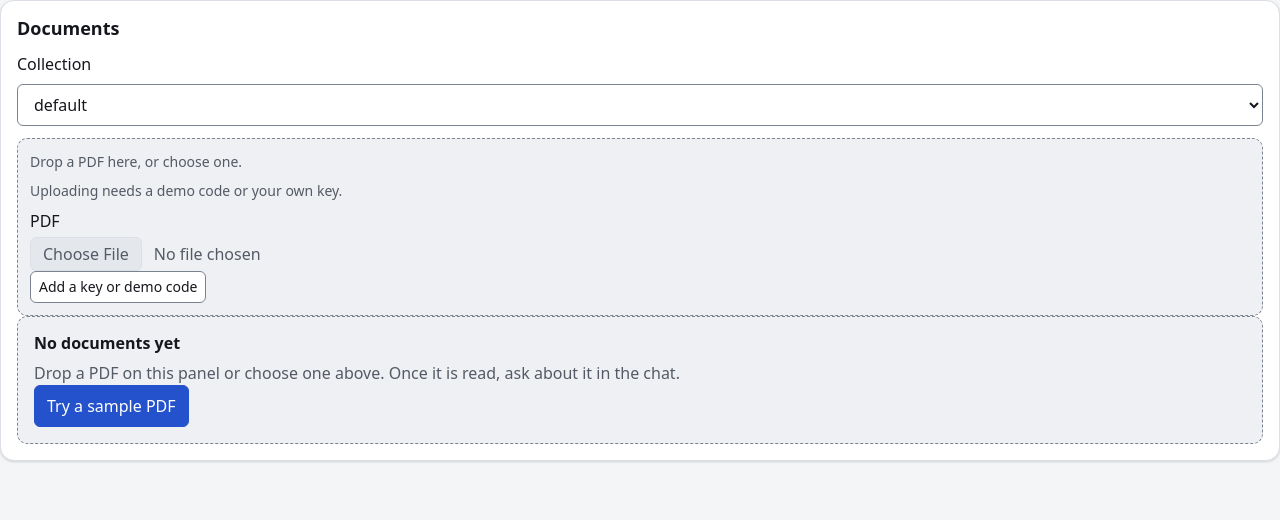
DocumentsPanel in a public demo › the sample button opens the panel instead of uploading without a code or key
Click the button "Try a sample PDF" at (111, 406), box [34, 384, 189, 426]
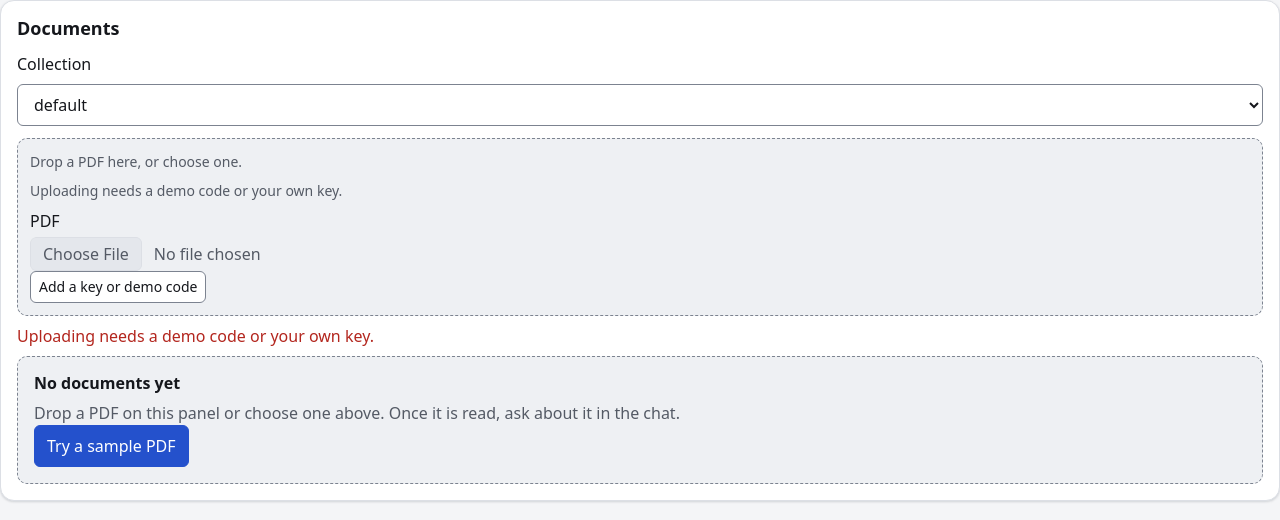
expect the message reads "Uploading needs a demo code or your own key.": met, box [17, 324, 374, 346]
